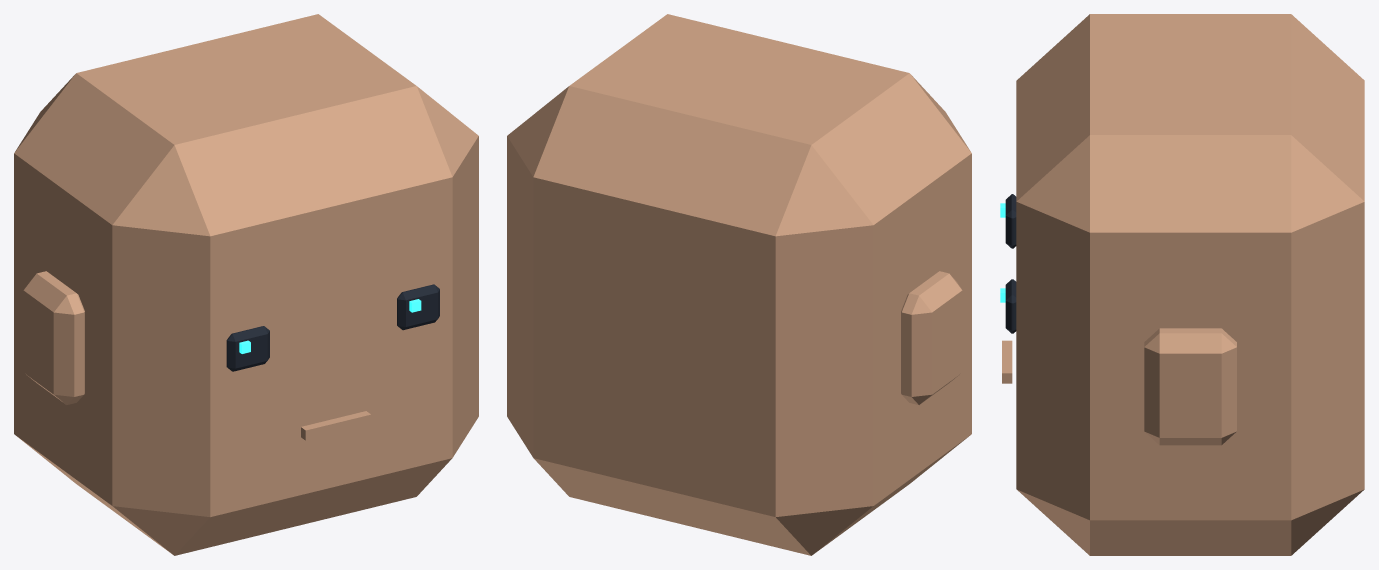
File: SM_NPC_Head_001_Male.glb
3 views of the same model, side by side, from view 1: azimuth 30°, elevation 25°; view 2: azimuth 150°, elevation 25°; view 3: azimuth 270°, elevation 25° (orthographic). The views are drawn at different scales.
Parts seen in each view (by area): view 1: SM_NPC_Head_001_Male; view 2: SM_NPC_Head_001_Male; view 3: SM_NPC_Head_001_Male.
Part boxes in pixels (x1,y1,x2,y2): SM_NPC_Head_001_Male: (14, 14, 478, 555); SM_NPC_Head_001_Male: (507, 14, 971, 555); SM_NPC_Head_001_Male: (1000, 14, 1364, 555).
Bounding box in the file's own units: 0.635 × 0.6 × 0.471.
